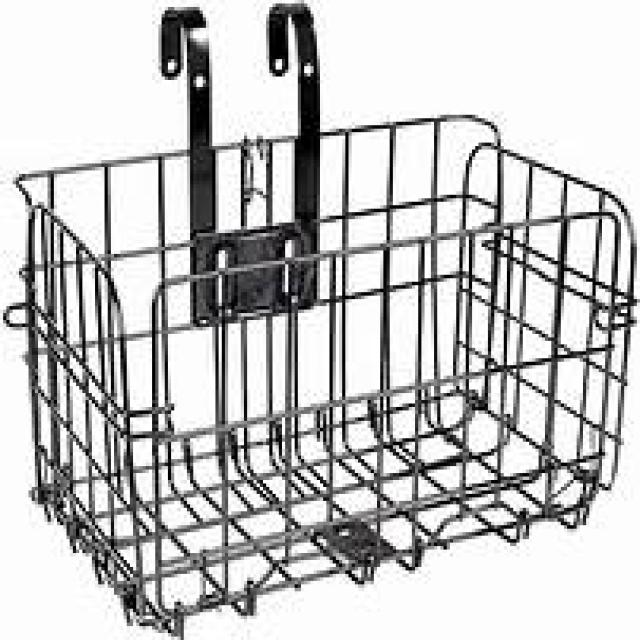basket: (13, 108, 633, 640)
